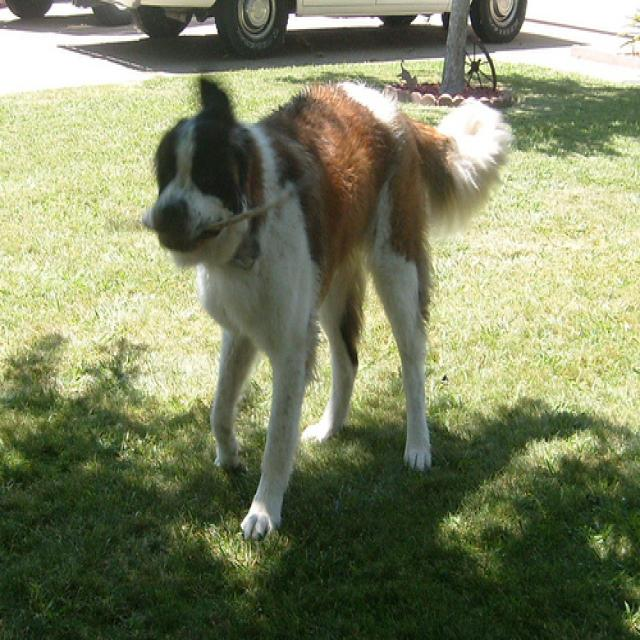dog-saint_bernard: (141, 68, 516, 539)
